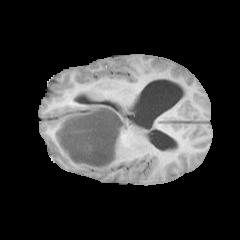glioma: (53, 104, 130, 173)
